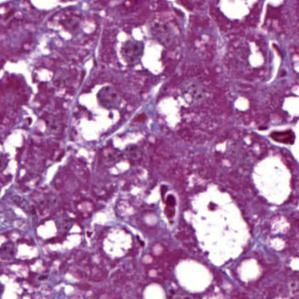steatosis: (174, 256, 218, 294)
